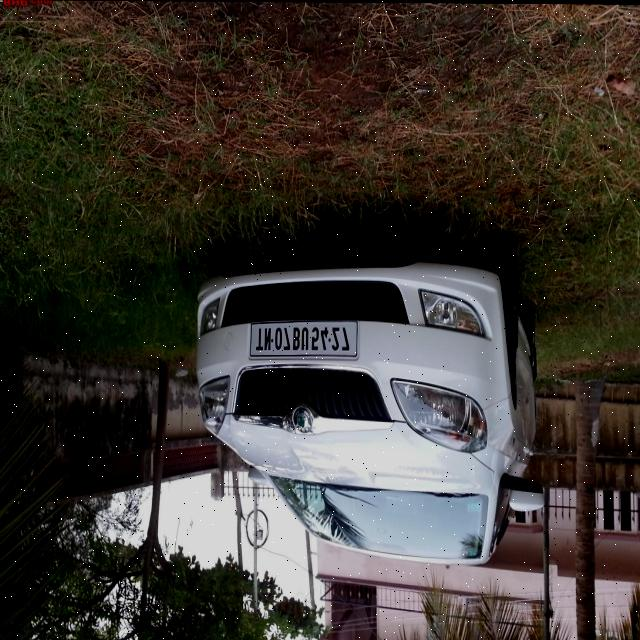plate: (252, 318, 357, 358)
